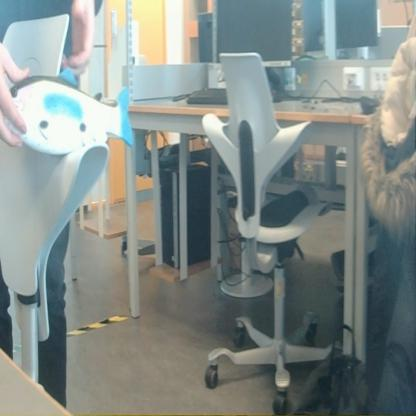rubberfish: (1, 63, 140, 160)
